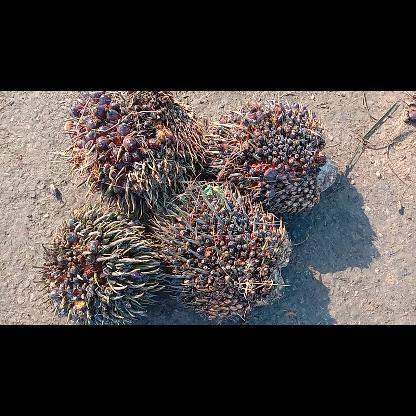TBS abnormal: (148, 180, 296, 318), (30, 200, 168, 324), (205, 100, 339, 218)
TBS masak: (60, 92, 220, 216)
